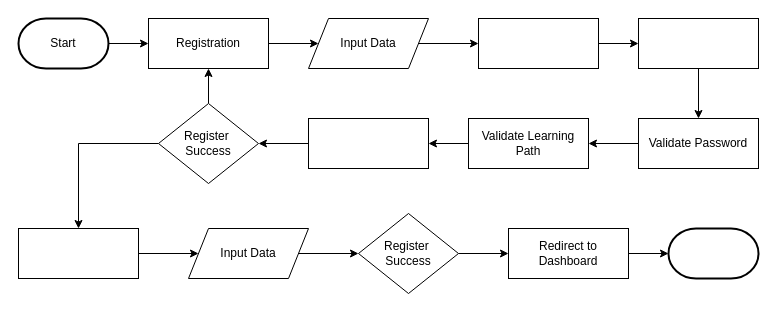
This 776x311 diagram has some shape labels left out. Here are the shapes that lost their labels. From the top down, the centre of each, then its label:
At point (538, 43): "Validate Name".
At point (698, 43): "Validate Email".
At point (368, 143): "Validate University".
At point (78, 253): "Login".
At point (713, 253): "End".
